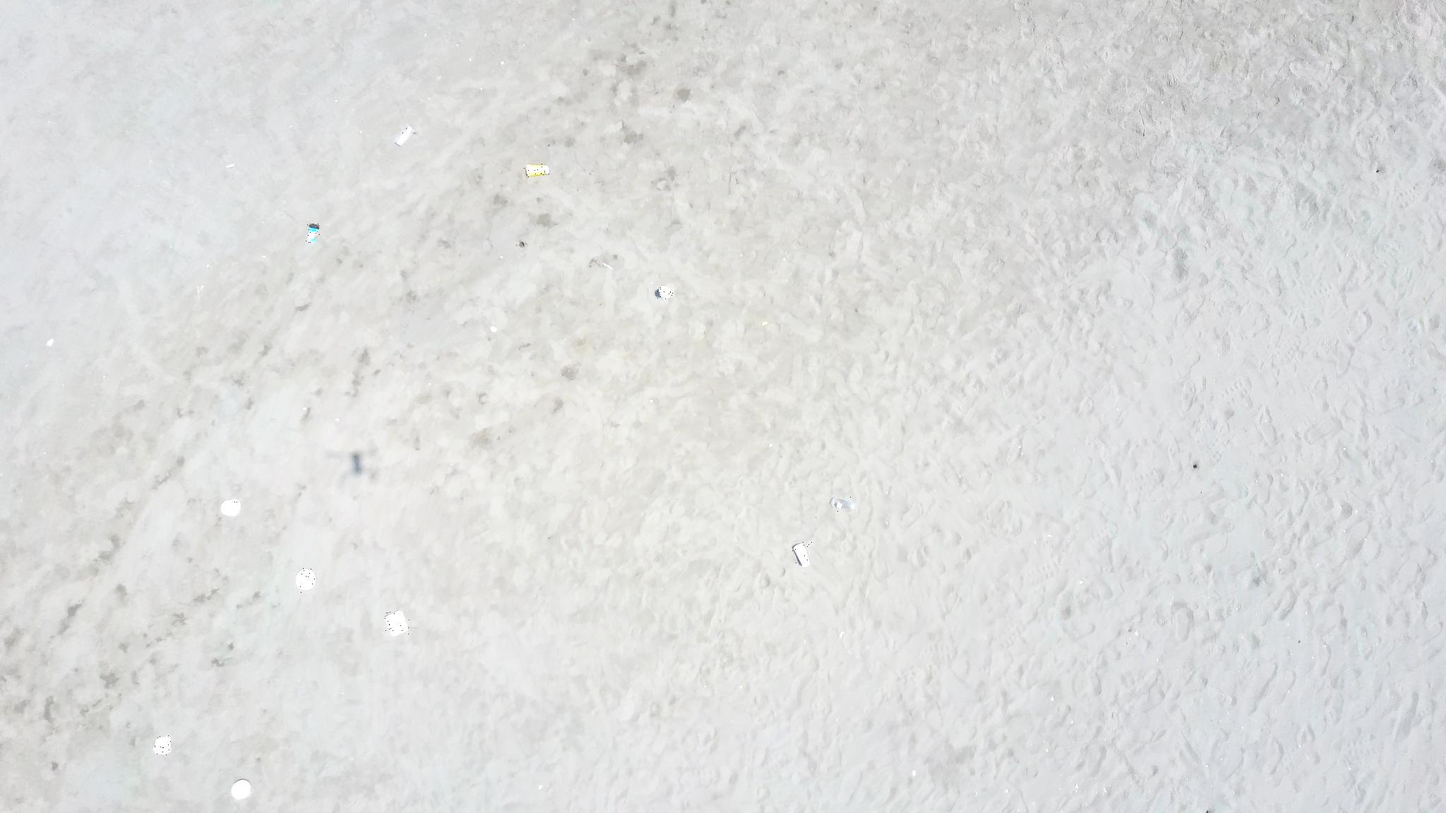Garbage: (384, 611, 407, 635), (294, 567, 316, 589), (791, 542, 810, 567), (230, 778, 251, 800), (393, 125, 415, 145), (153, 735, 171, 755), (220, 499, 240, 517), (830, 496, 855, 510), (524, 164, 549, 176), (655, 285, 672, 299), (306, 223, 318, 242), (352, 452, 362, 474), (46, 339, 54, 347)
